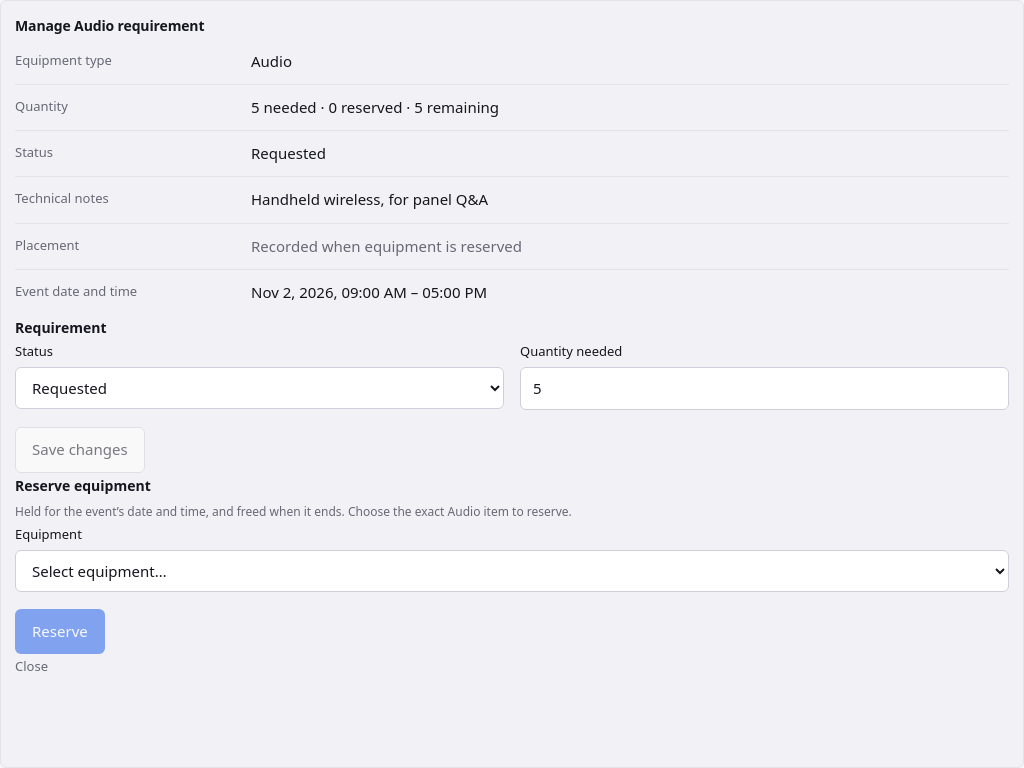
Scenario: saving the status and quantity › hands the server’s answer back and stays open, so the work can go on
The width and height of the screenshot is (1024, 768).
Select "Unavailable" in the dropdown labelled "Status" at (260,388), box [15, 367, 504, 409]
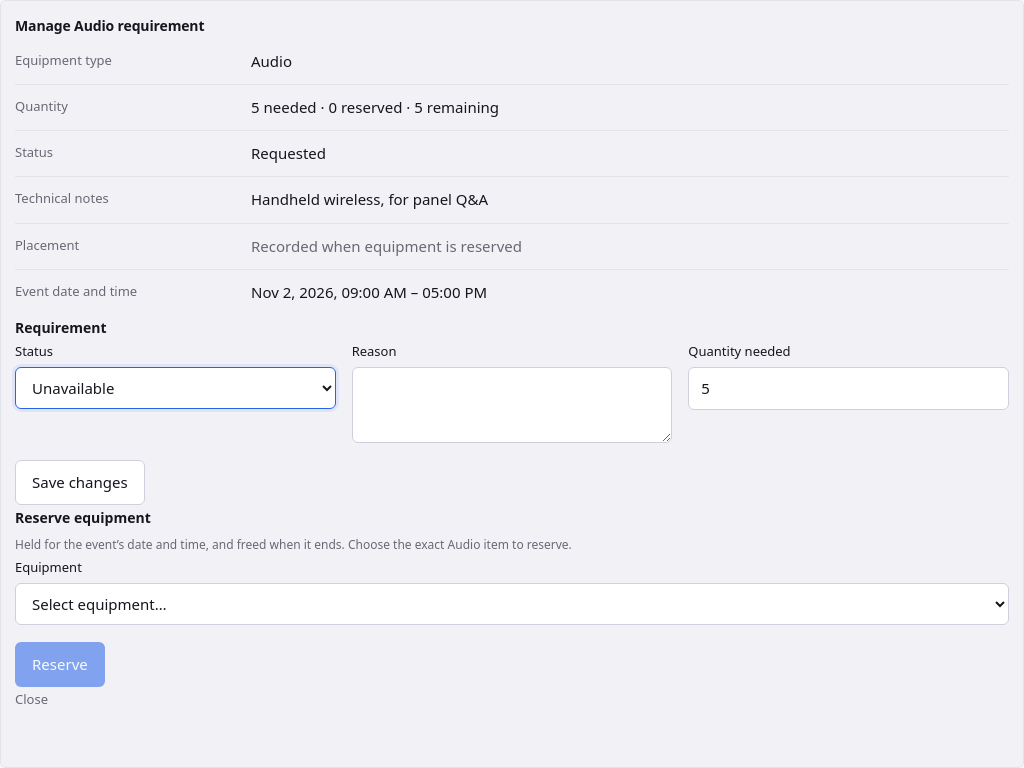
Type "Damaged" into the text box labelled "Reason" at (512,405), box [352, 367, 672, 443]
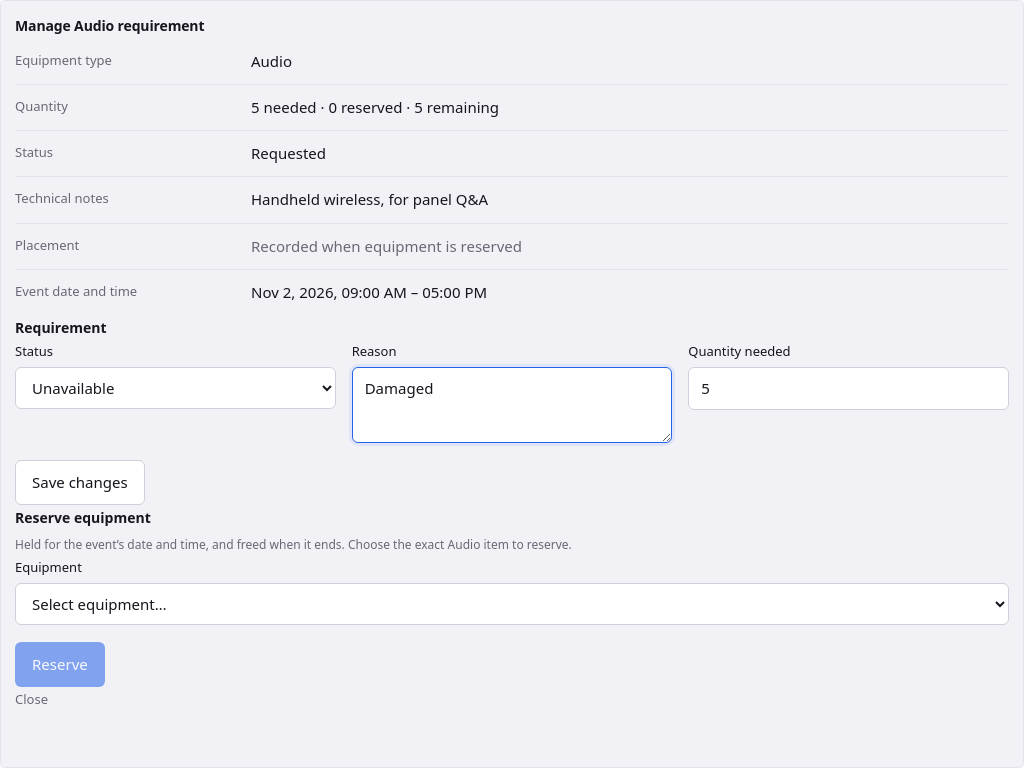
Click the button "Save changes" at (80,483), box [15, 460, 145, 505]
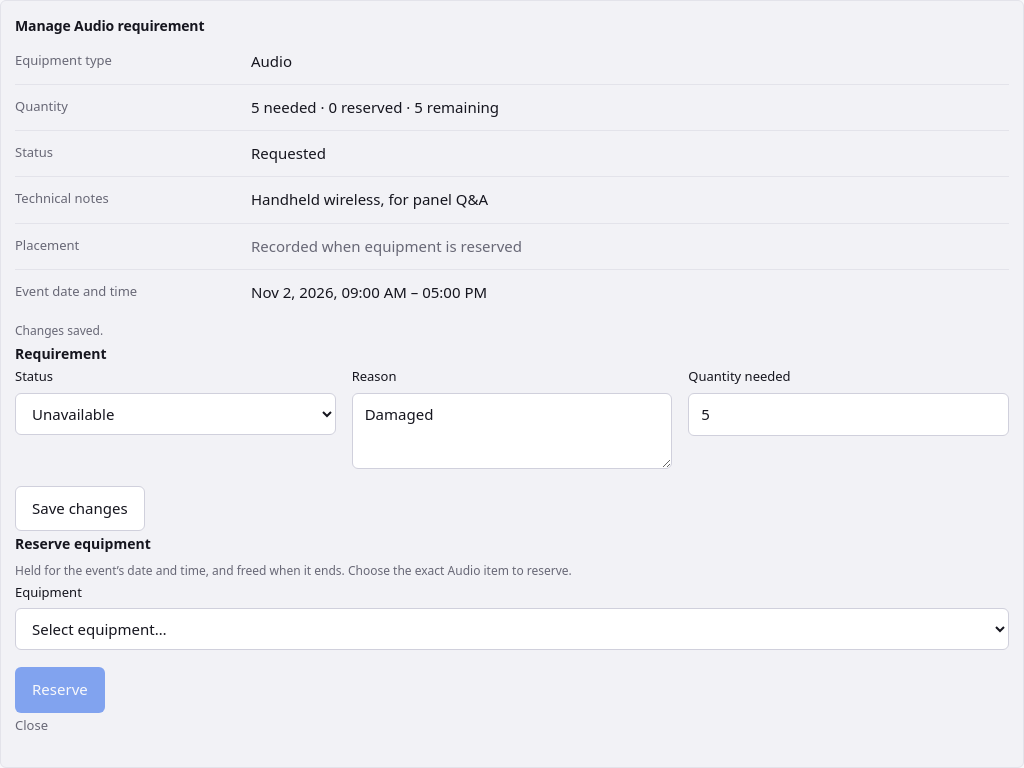
Now the message named "Result" reads "Changes saved.", box [15, 322, 103, 339]
